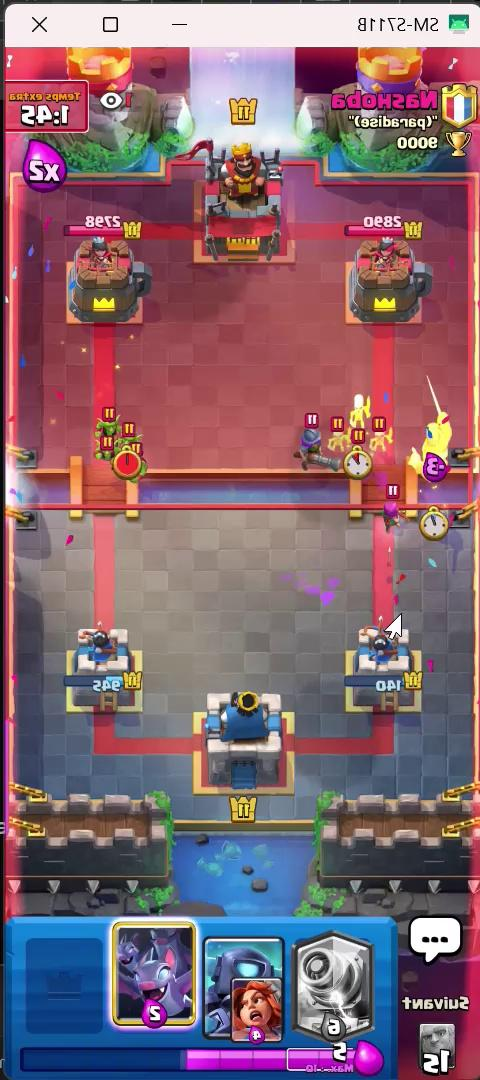archere: (371, 490, 412, 538)
chevalier: (412, 408, 458, 480)
gobelin: (118, 409, 155, 452), (124, 439, 155, 485), (96, 400, 130, 435), (92, 433, 118, 463)
mousquetaire: (293, 408, 330, 476)
squelette: (366, 408, 399, 462), (345, 383, 382, 431), (332, 404, 348, 461)
